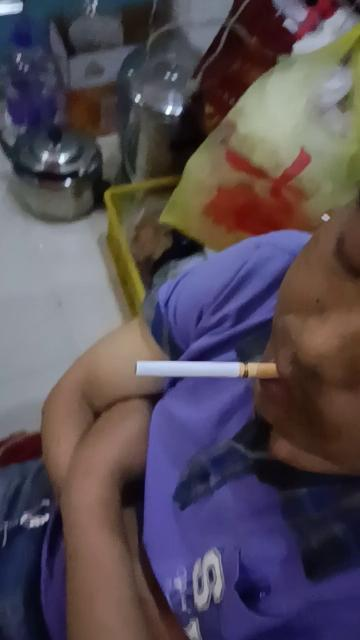Smoking: (138, 360, 280, 380)
